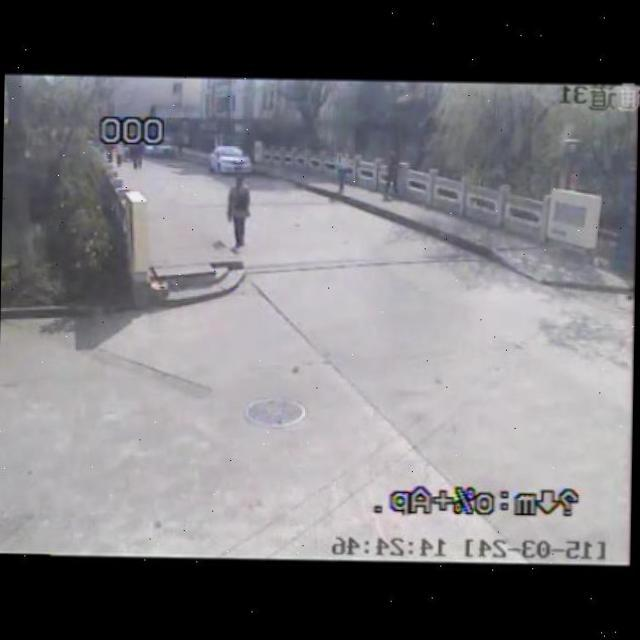person: (218, 173, 254, 255), (332, 142, 353, 196), (381, 150, 402, 199)
